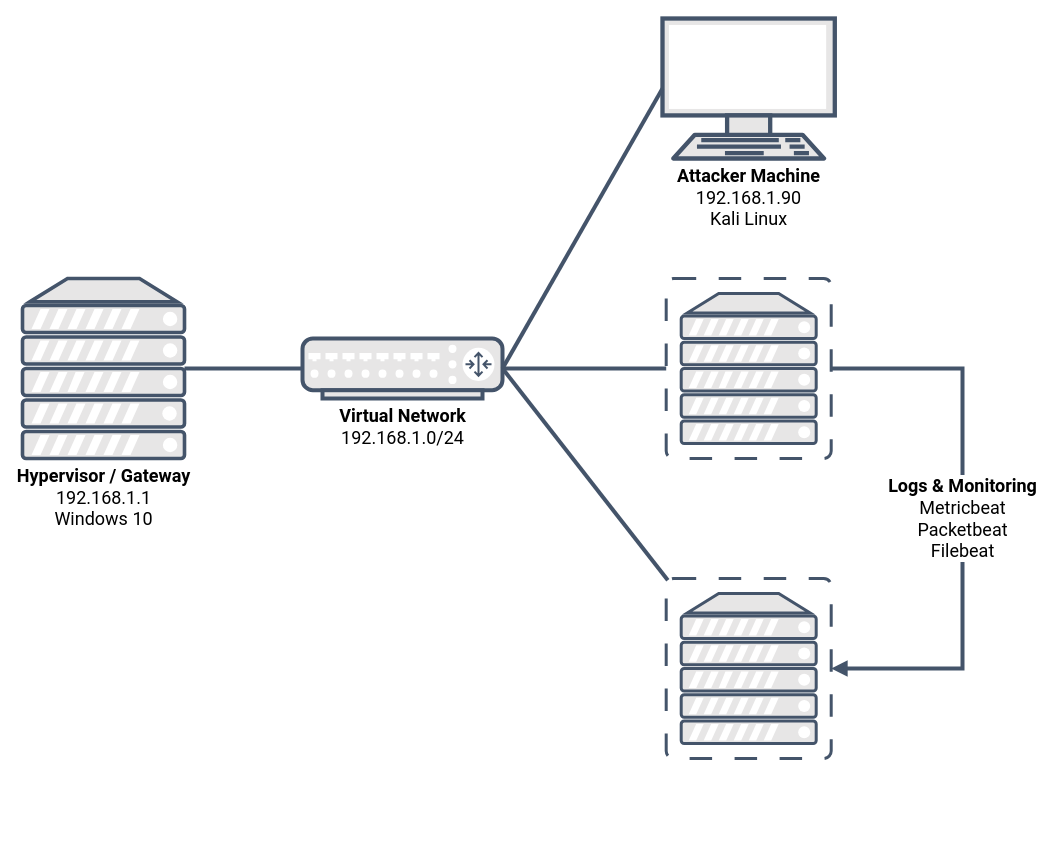
This 1054x847 diagram has some shape labels left out. Each missing label, with the centre of its shape:
"ELK Server 192.168.1.100 Ubuntu Linux" goes at pixel 748 368.
"Target Machine 192.168.1.105 Ubuntu Linux" goes at pixel 748 668.
